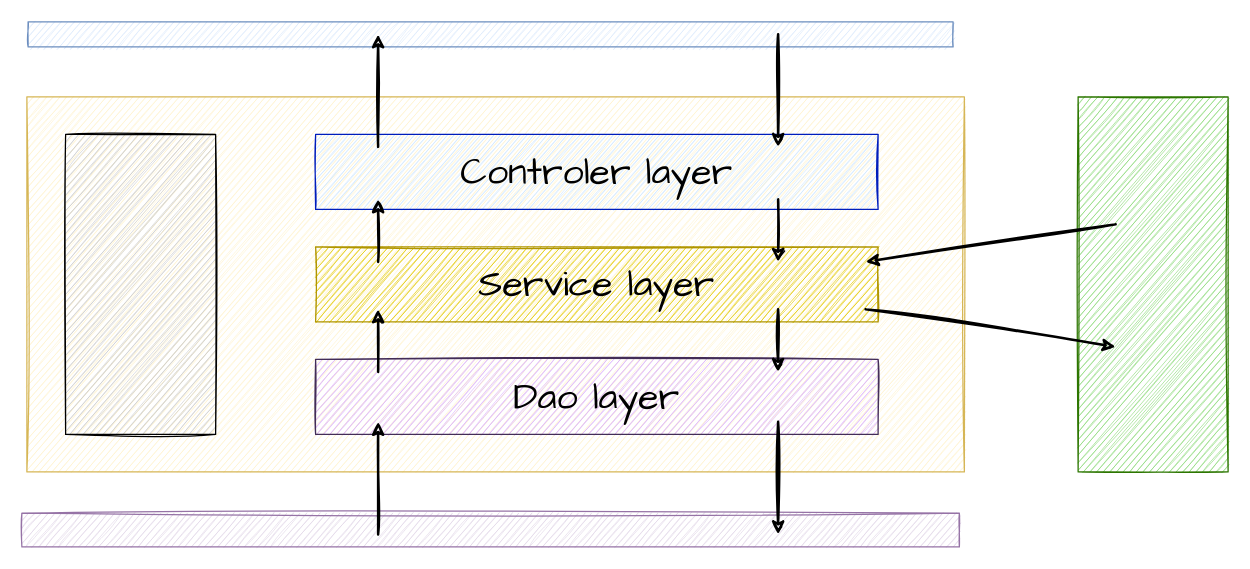
Some shapes in this 1250 by 569 pixel diagram are drawn without their labels. The centre of each missing label's shape, as x and y in pixels:
"Business layer (plain old python object)" goes at (140,283).
"Web service" goes at (1152,284).
